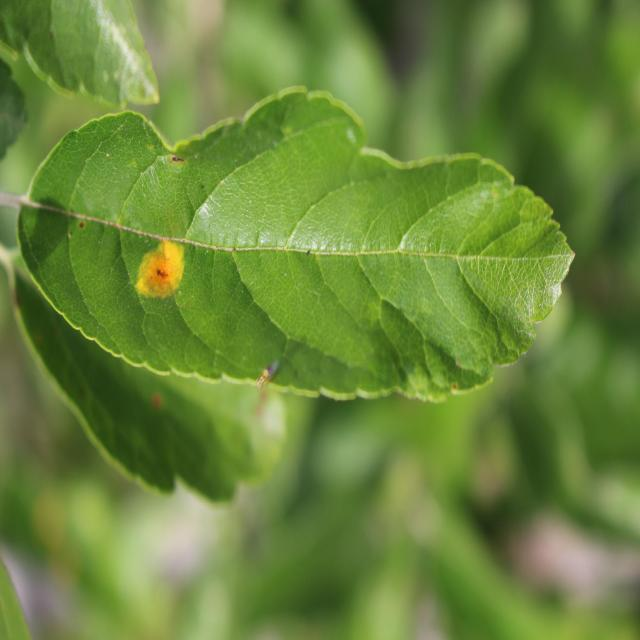rust: (16, 85, 578, 404)
